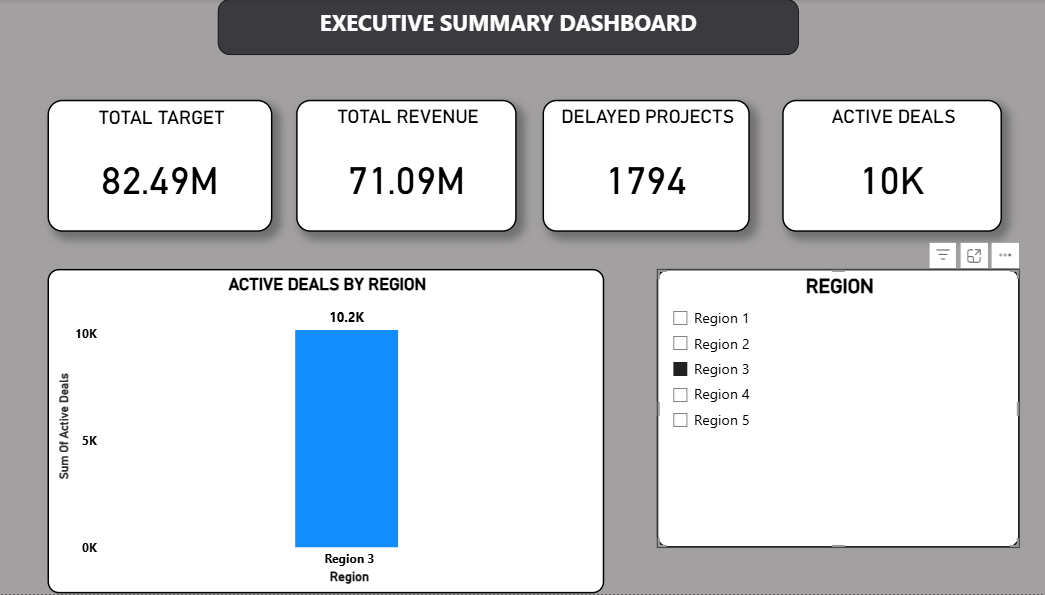

What the dashboard file says about the page in this screenshot:
{"tool":"powerbi","page":{"name":"Page 1","canvas":[1280,720],"ordinal":0},"visuals":[{"type":"textbox","box":[268.1,0,703.6,68.2],"z":0},{"type":"card","title":"TOTAL TARGET","fields":{"Values":["Sum(public salessummary.targetrevenue)"]},"box":[62.4,122.1,272.6,160],"z":1000},{"type":"card","title":"DELAYED PROJECTS","fields":{"Values":["Sum(public salessummary.projectdelays)"]},"box":[661.8,122.1,250.9,160],"z":2000},{"type":"card","title":"TOTAL REVENUE","fields":{"Values":["Sum(public salessummary.totalrevenue)"]},"box":[363.5,122.1,267.2,160],"z":3000},{"type":"card","title":"ACTIVE DEALS","fields":{"Values":["Sum(public salessummary.activedeals)"]},"box":[952.1,122.1,265.8,160],"z":4000},{"type":"clusteredColumnChart","title":" ACTIVE DEALS BY REGION","fields":{"Category":["public salessummary.region"],"Y":["Sum(public salessummary.activedeals)"]},"box":[62.4,326.8,674,393.3],"z":5000},{"type":"slicer","title":"REGION","fields":{"Values":["public salessummary.region"]},"box":[800.2,326.8,439.4,337.7],"z":6000}]}

Visuals, with their boxes in screenshot pixels (x1, y1, x2, y2), scaled from the page's 1280x720 canvas onto the 1045x595 screenshot:
textbox: 219:0:793:56
"TOTAL TARGET" card: 51:101:273:233
"DELAYED PROJECTS" card: 540:101:745:233
"TOTAL REVENUE" card: 297:101:515:233
"ACTIVE DEALS" card: 777:101:994:233
" ACTIVE DEALS BY REGION" clusteredColumnChart: 51:270:601:594
"REGION" slicer: 653:270:1012:549
